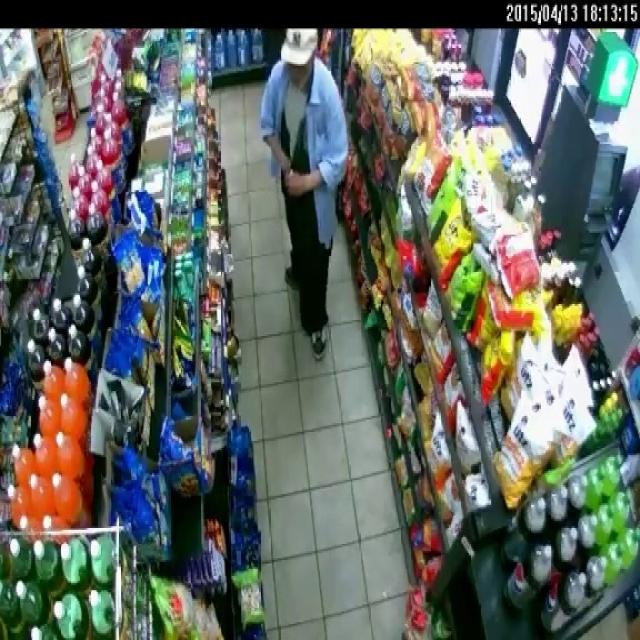shoplifting: (233, 26, 369, 352)
